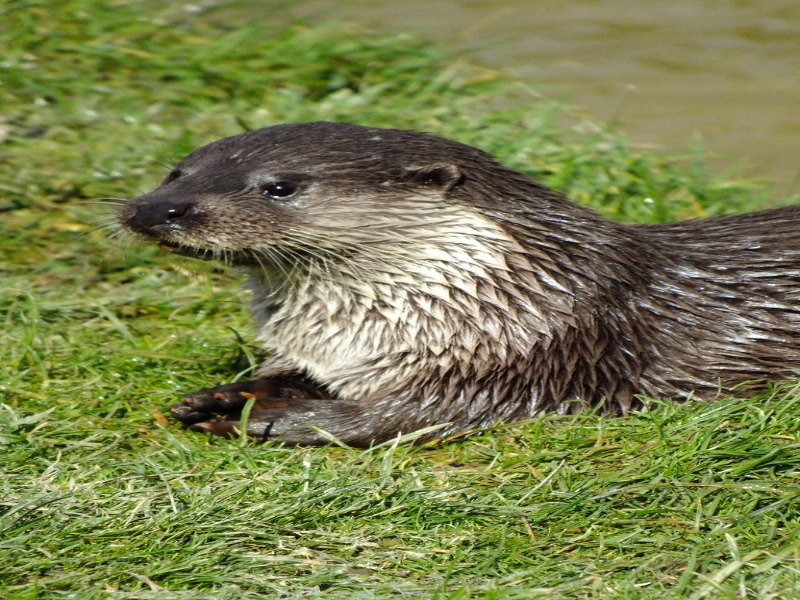minkish: (115, 106, 800, 451)
